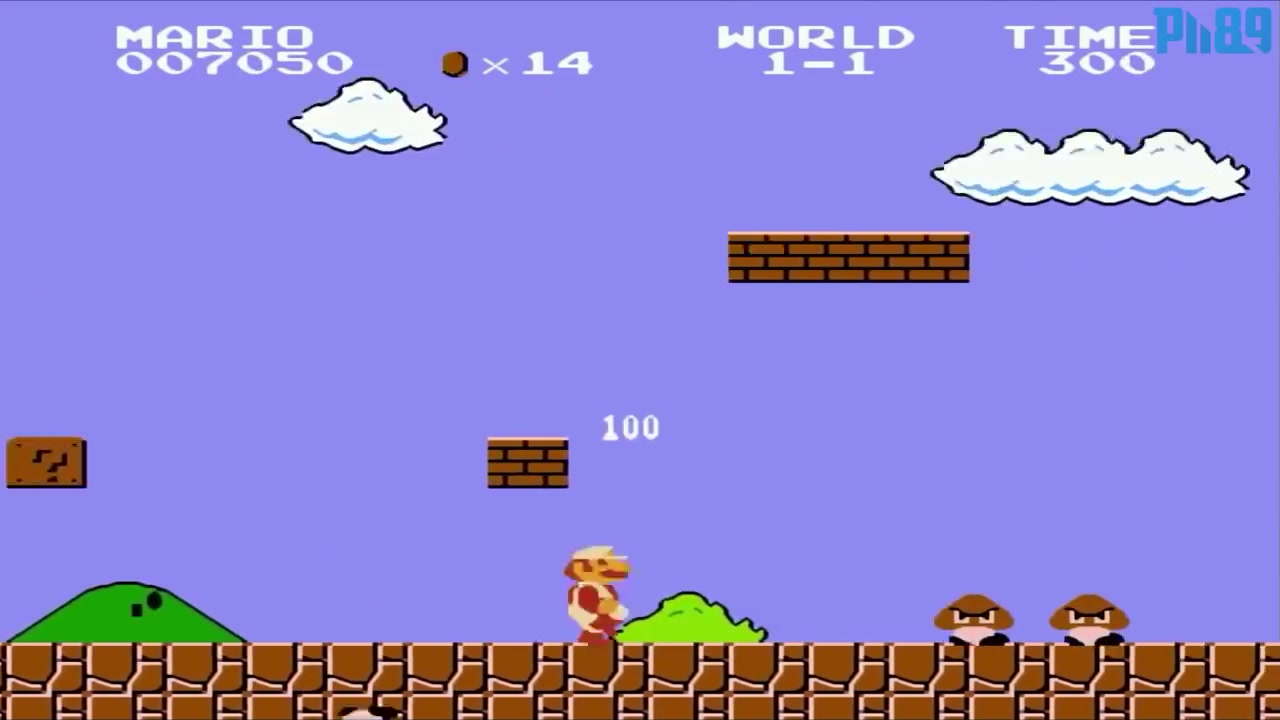mario: (556, 539, 643, 643)
